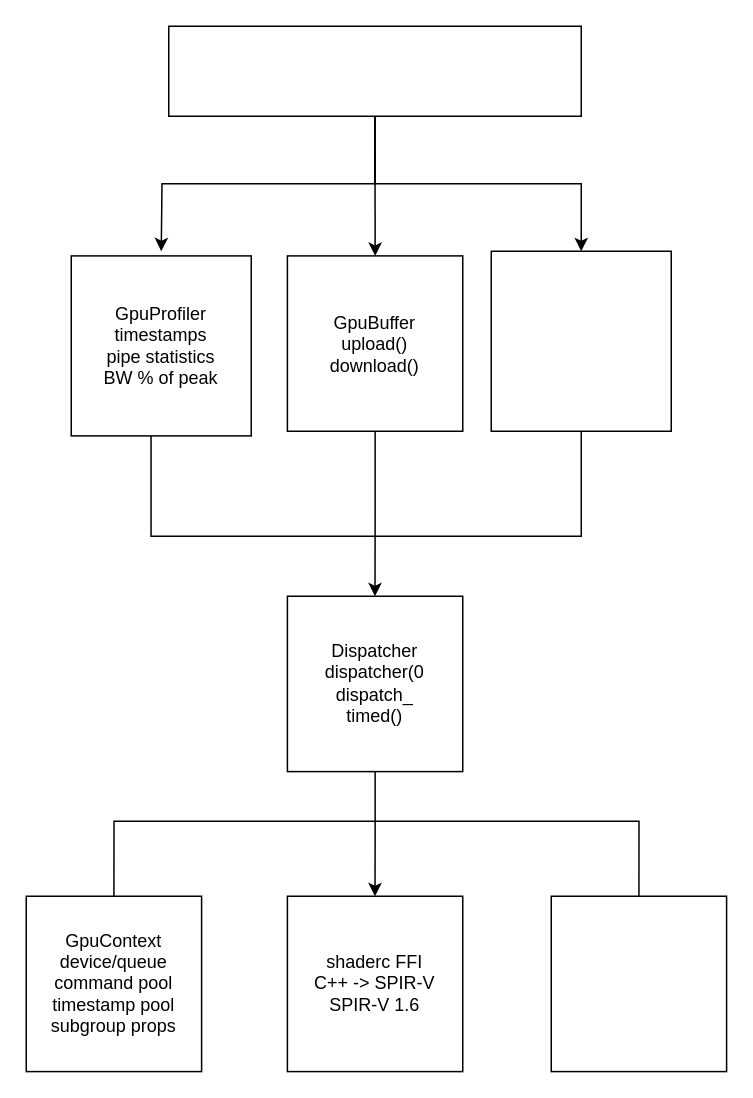
The diagram is 753 pixels wide and 1098 high, and some of its shapes have lost their labels. The shapes that lost their labels are listed below. From the top down, each one's box as (x1, y1, x2, y2) in pixels, then its label:
(167, 25, 581, 116): Benchmarks & CLI Scan · Histogram · SpMV
(490, 250, 671, 431): ComputePipeline from_glsl() descriptor sets
(550, 895, 727, 1072): Vulkan (ash) instance/device compute queue GPU Allocator
